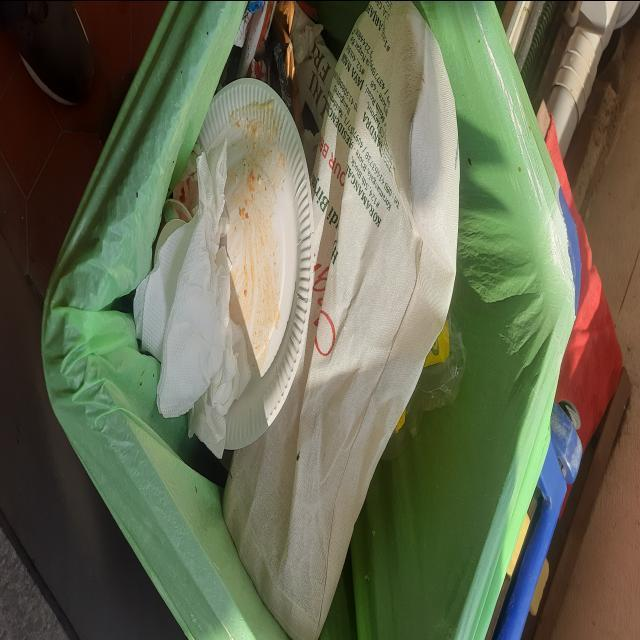Garbage: (134, 0, 464, 639)
Plastic: (199, 78, 314, 449)
Plastic_Bag: (382, 311, 466, 457)
Plastic_wraper: (268, 0, 302, 135), (238, 0, 276, 76), (246, 60, 268, 81)
